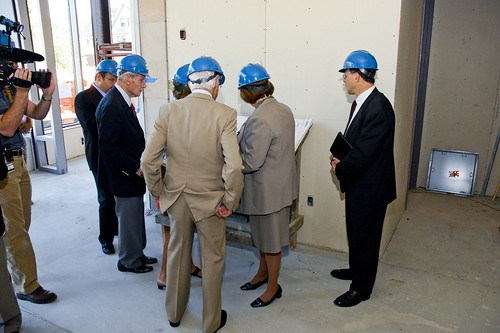person hardhat: (186, 55, 226, 101), (338, 49, 378, 94), (116, 53, 151, 97), (235, 62, 270, 104), (93, 59, 119, 94), (172, 64, 194, 99)
